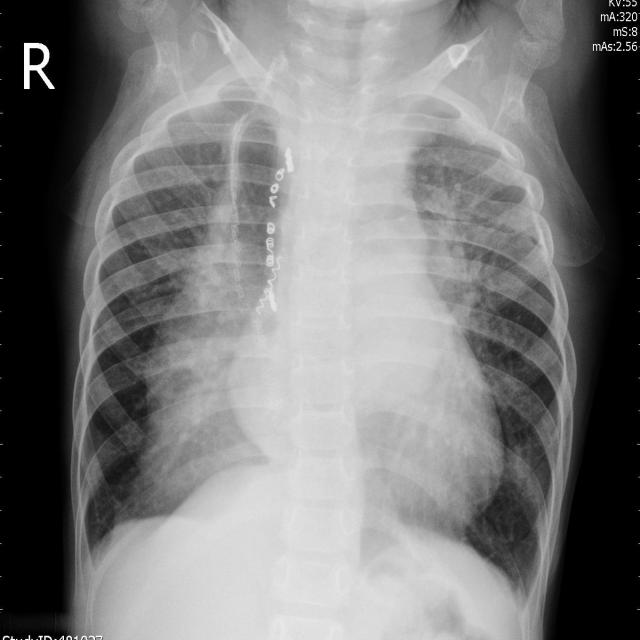high-pneumonia: (116, 99, 271, 520), (400, 94, 493, 198)
low-pneumonia: (416, 182, 524, 355)
